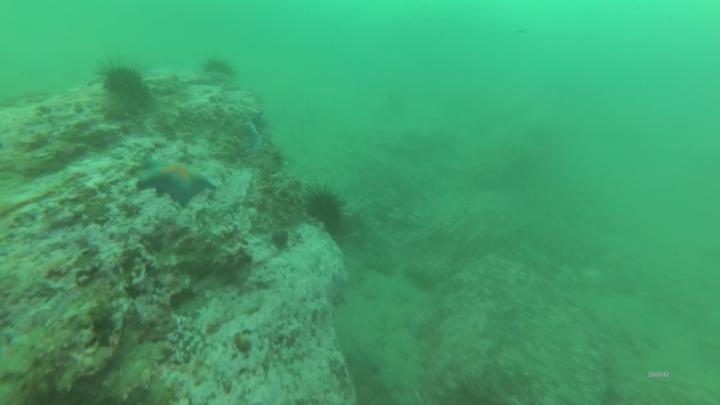echinus: (312, 191, 345, 231), (105, 64, 139, 81), (205, 59, 236, 77)
starfish: (135, 158, 218, 204)
